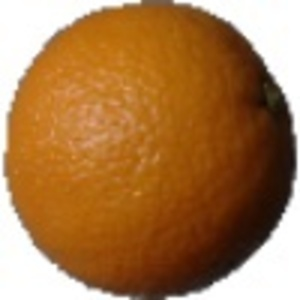laranja: (5, 5, 297, 299)
